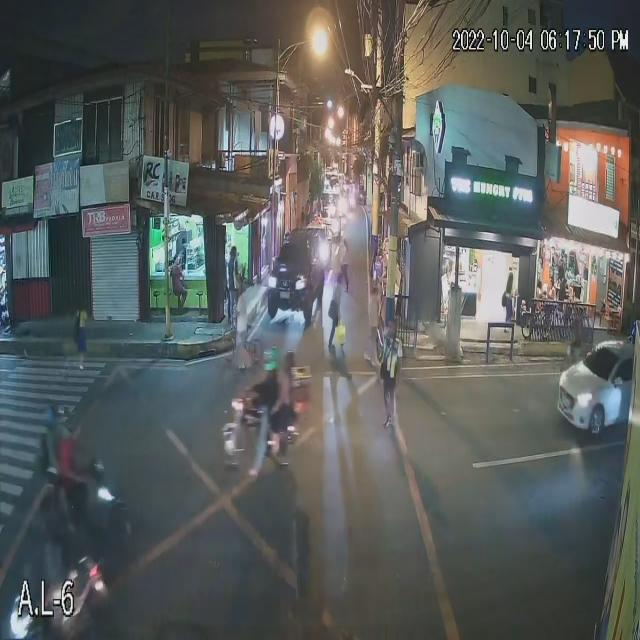helmet: (48, 411, 73, 426), (263, 351, 280, 371)
motorcycle: (38, 490, 147, 563), (227, 402, 295, 459)
rider: (56, 440, 82, 511), (257, 378, 272, 435)
